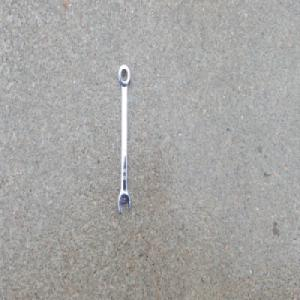Wrench: (117, 62, 131, 214)
